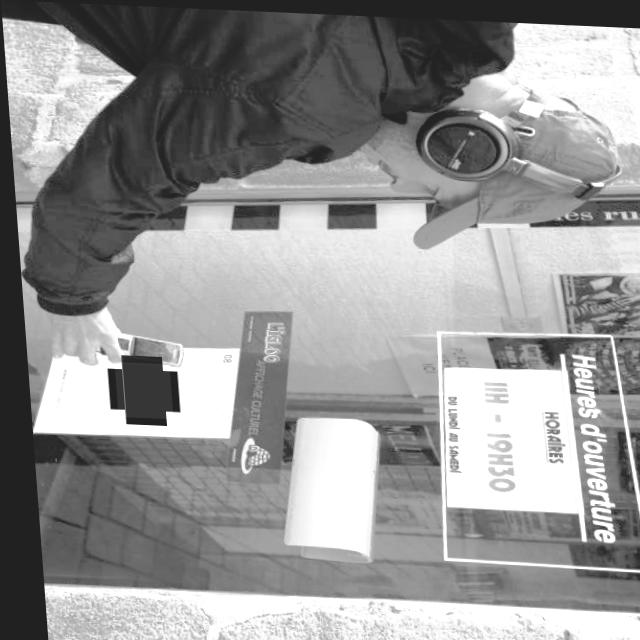qr_code: (108, 361, 166, 418)
